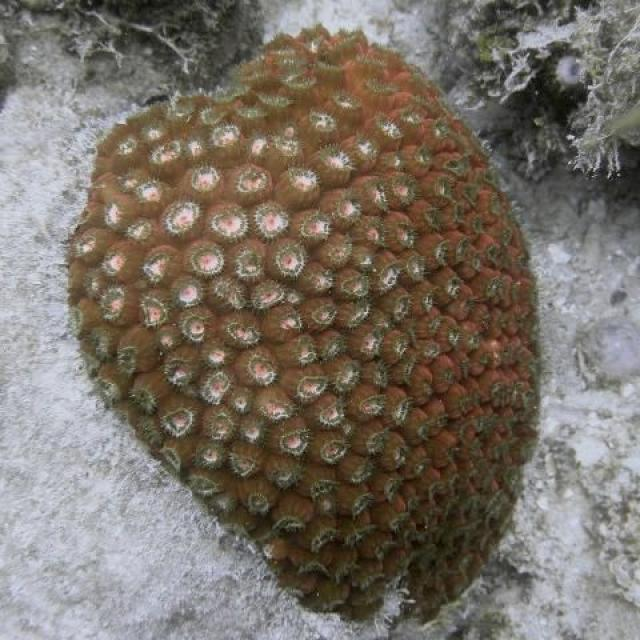Coral: (66, 24, 542, 627)
